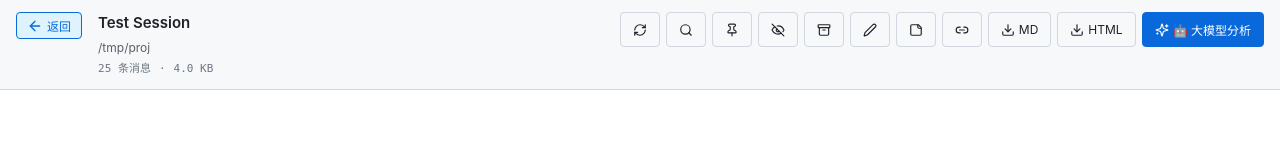
Test: SessionHeader › actions row '重命名' 按钮触发 HeaderInfo 切到编辑态
The width and height of the screenshot is (1280, 160).
Click the button titled "重命名" at (870, 30), box [850,12,890,47]
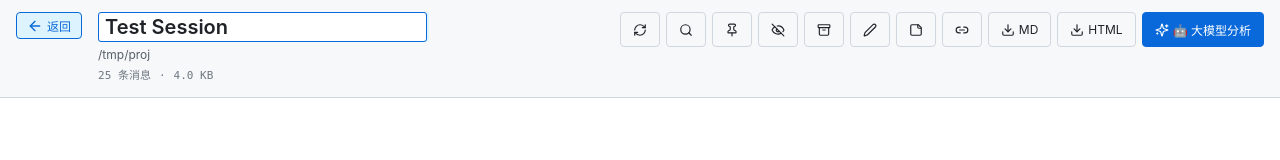
Result: the field with class "title-rename-input" is shown at [98,12,427,42]
